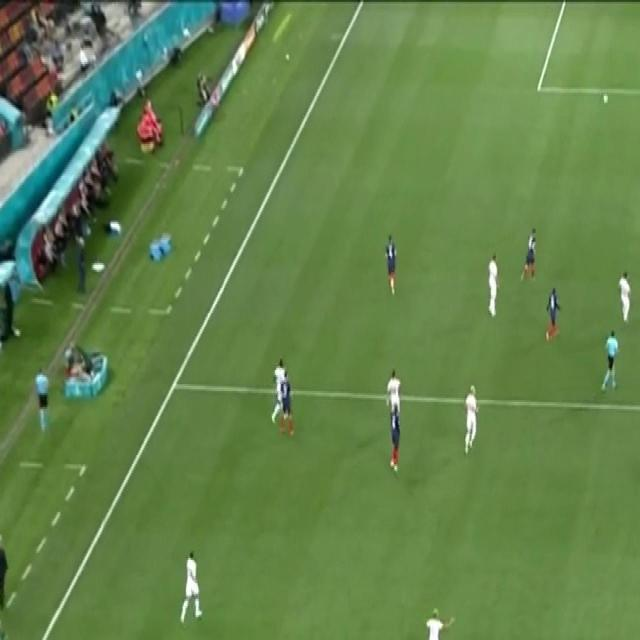ball: (600, 94, 611, 108)
player-white: (179, 547, 205, 627), (268, 351, 288, 427), (598, 327, 620, 396), (463, 381, 482, 459), (483, 248, 502, 324), (31, 363, 50, 435), (279, 369, 297, 445), (419, 604, 457, 640), (381, 364, 403, 424), (519, 220, 539, 286), (386, 406, 404, 478), (543, 285, 563, 349), (614, 264, 634, 326), (384, 230, 399, 301), (0, 625, 15, 640)
